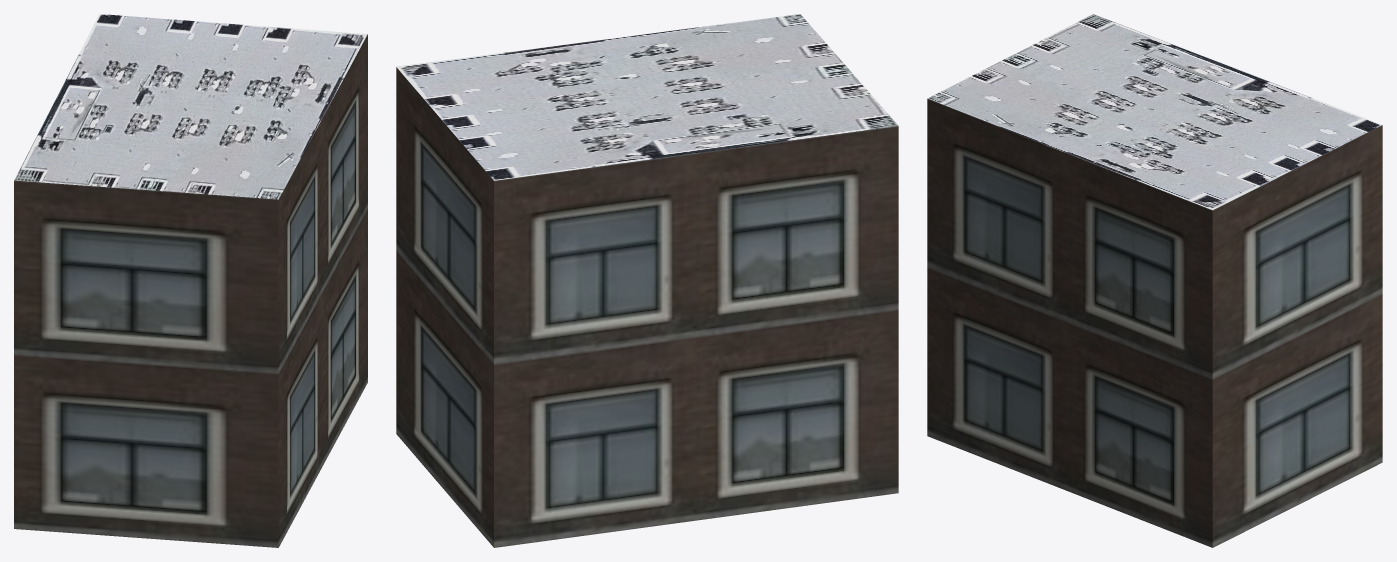
Rendered from ResTex__2865.fbx.
3 views of the same model, side by side, from view 1: azimuth 30°, elevation 25°; view 2: azimuth 150°, elevation 25°; view 3: azimuth 270°, elevation 25° (orthographic). The views are drawn at different scales.
Visible parts, largest first — view 1: CityEngineMaterial_16_m, CityEngineMaterial_15_m; view 2: CityEngineMaterial_16_m, CityEngineMaterial_15_m; view 3: CityEngineMaterial_16_m, CityEngineMaterial_15_m.
Boxes of the visible parts, x1,y1,x2,y2 form: CityEngineMaterial_16_m: [14, 34, 367, 547]; CityEngineMaterial_15_m: [14, 14, 367, 199]; CityEngineMaterial_16_m: [396, 67, 898, 547]; CityEngineMaterial_15_m: [396, 14, 898, 180]; CityEngineMaterial_16_m: [927, 98, 1382, 547]; CityEngineMaterial_15_m: [928, 14, 1381, 210].
Bounding box in the file's own units: 7.49 × 6 × 7.33.
Materials: 2 (2 with a texture image).
